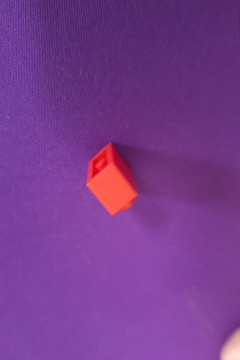1x2 red: (83, 142, 141, 218)
